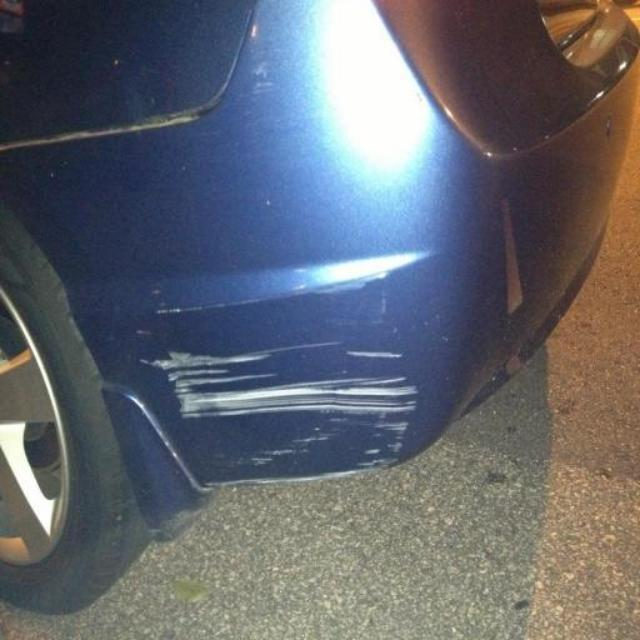rub: (148, 338, 420, 483)
